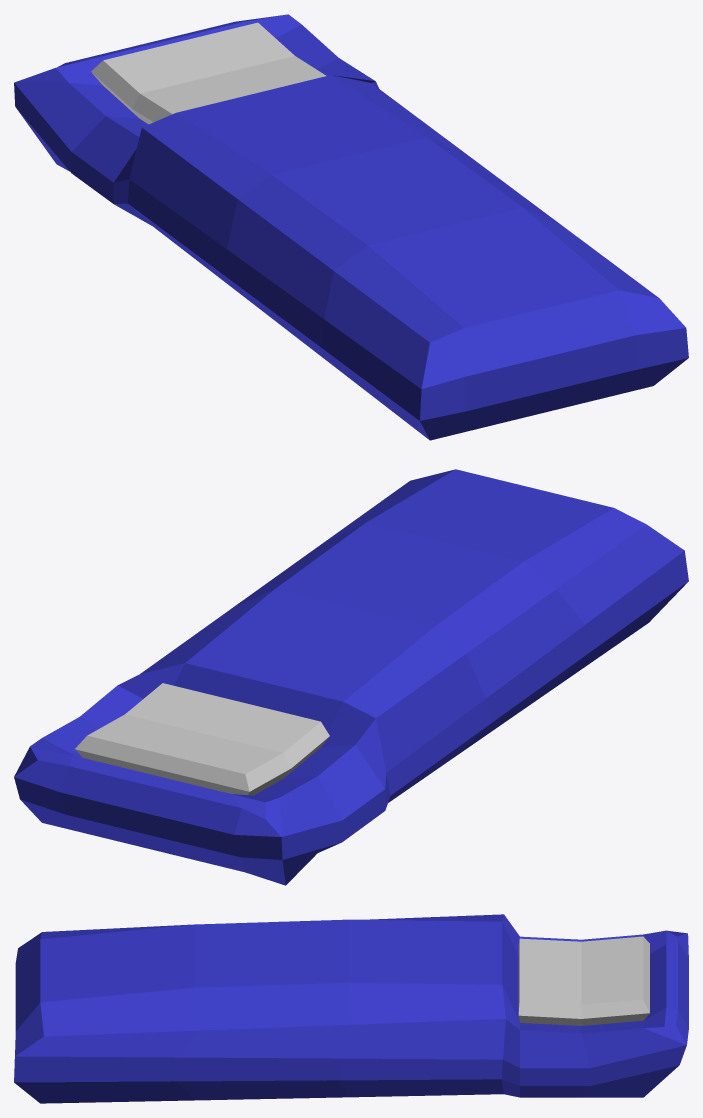
Rendered from sleepingbag.fbx.
3 renders of one model, top to bottom at view 1: azimuth 30°, elevation 25°; view 2: azimuth 150°, elevation 25°; view 3: azimuth 270°, elevation 25°, orthographic. The views are drawn at different scales.
Visible parts, largest first — view 1: Cube; view 2: Cube; view 3: Cube.
Boxes of the visible parts, <box> form: Cube: <box>14,14,688,440</box>; Cube: <box>14,469,688,885</box>; Cube: <box>14,914,688,1103</box>.
Bounding box in the file's own units: 239 × 102 × 601.
